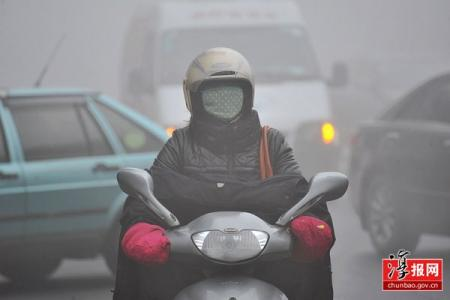person: (151, 47, 303, 176)
